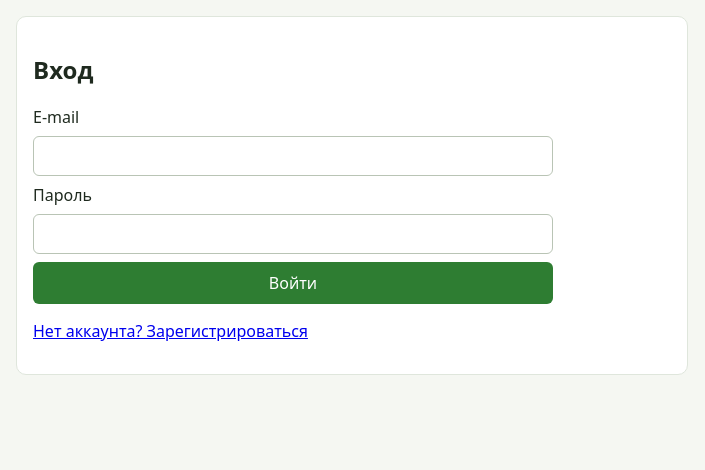
LoginPage › неверный пароль (401) - текст ошибки с сервера
Type "farmer@agro.kz" into the field labelled "E-mail" at (293, 156), box [33,136,553,176]
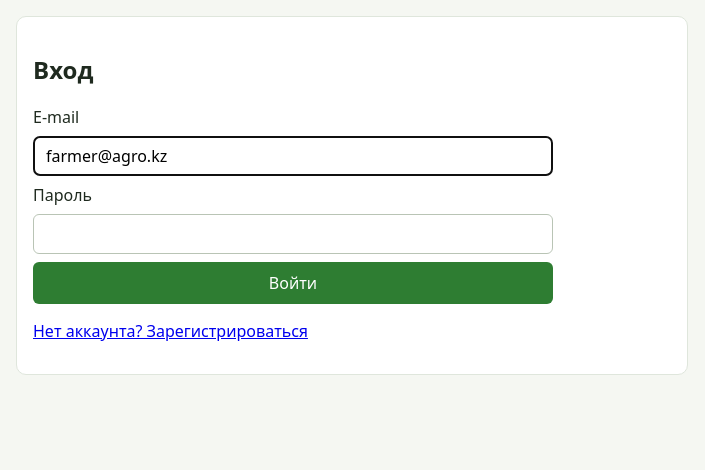
Type "wrong" into the password field labelled "Пароль" at (293, 234), box [33,214,553,254]
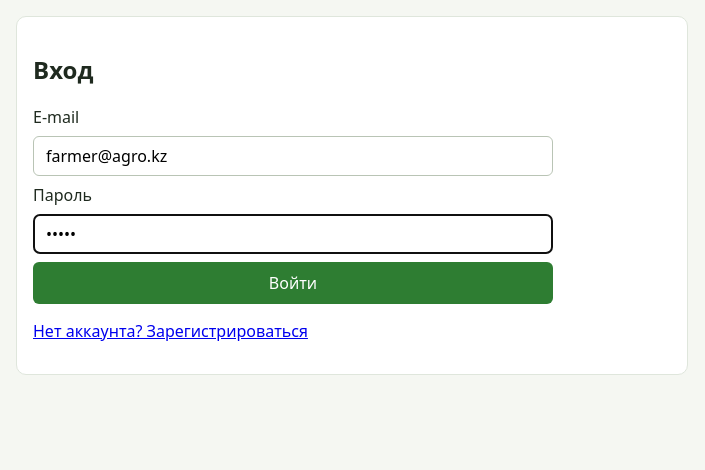
Click the button "Войти" at (293, 283), box [33,262,553,304]
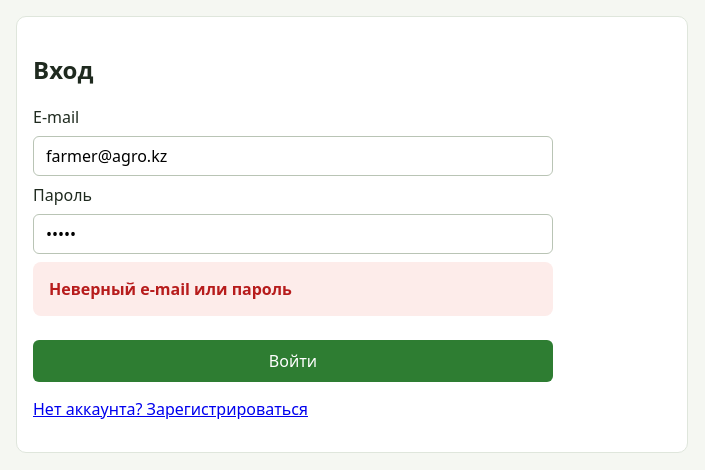
Check: the text "Неверный e-mail или пароль" is shown, box [33,262,553,316]
